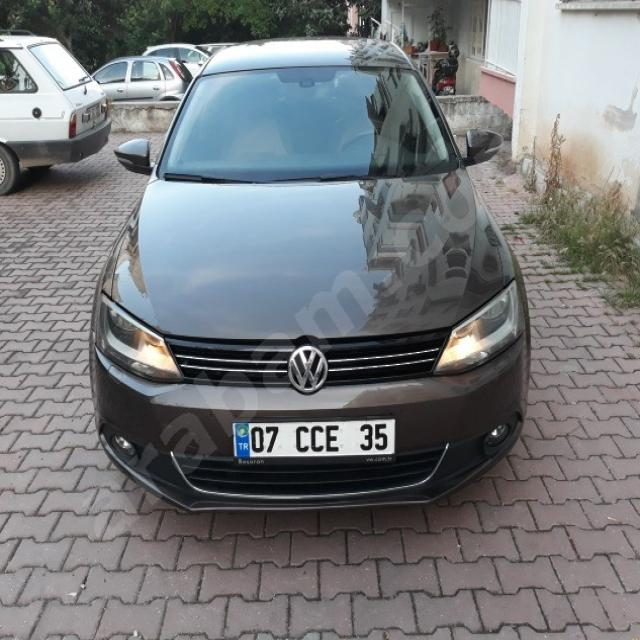license_plate: (234, 418, 397, 458)
